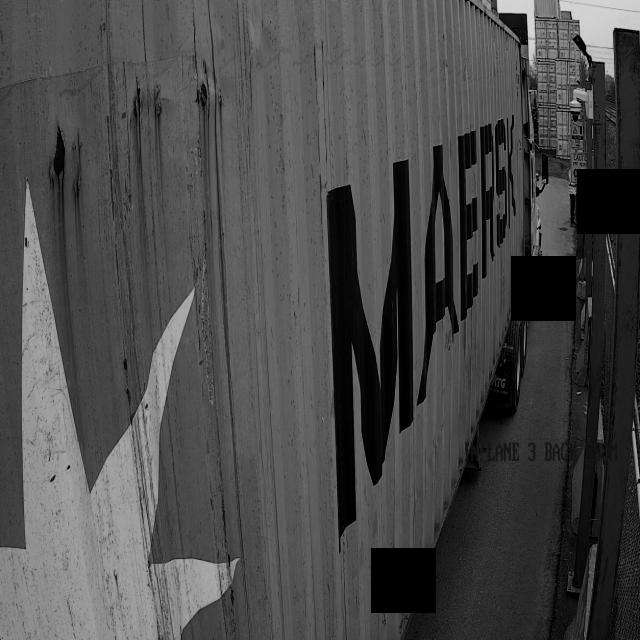container_company_logo: (327, 160, 414, 532), (416, 107, 521, 404)
driver: (560, 144, 582, 235)
truck_with_container: (0, 0, 540, 640)
